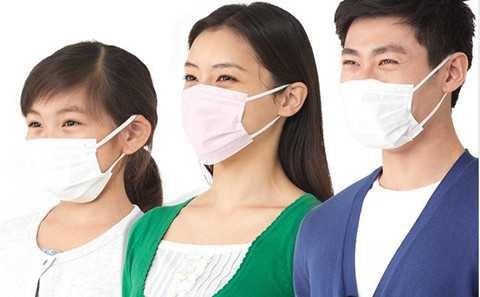face_mask: (337, 18, 427, 152), (179, 33, 271, 163), (19, 86, 113, 199)
